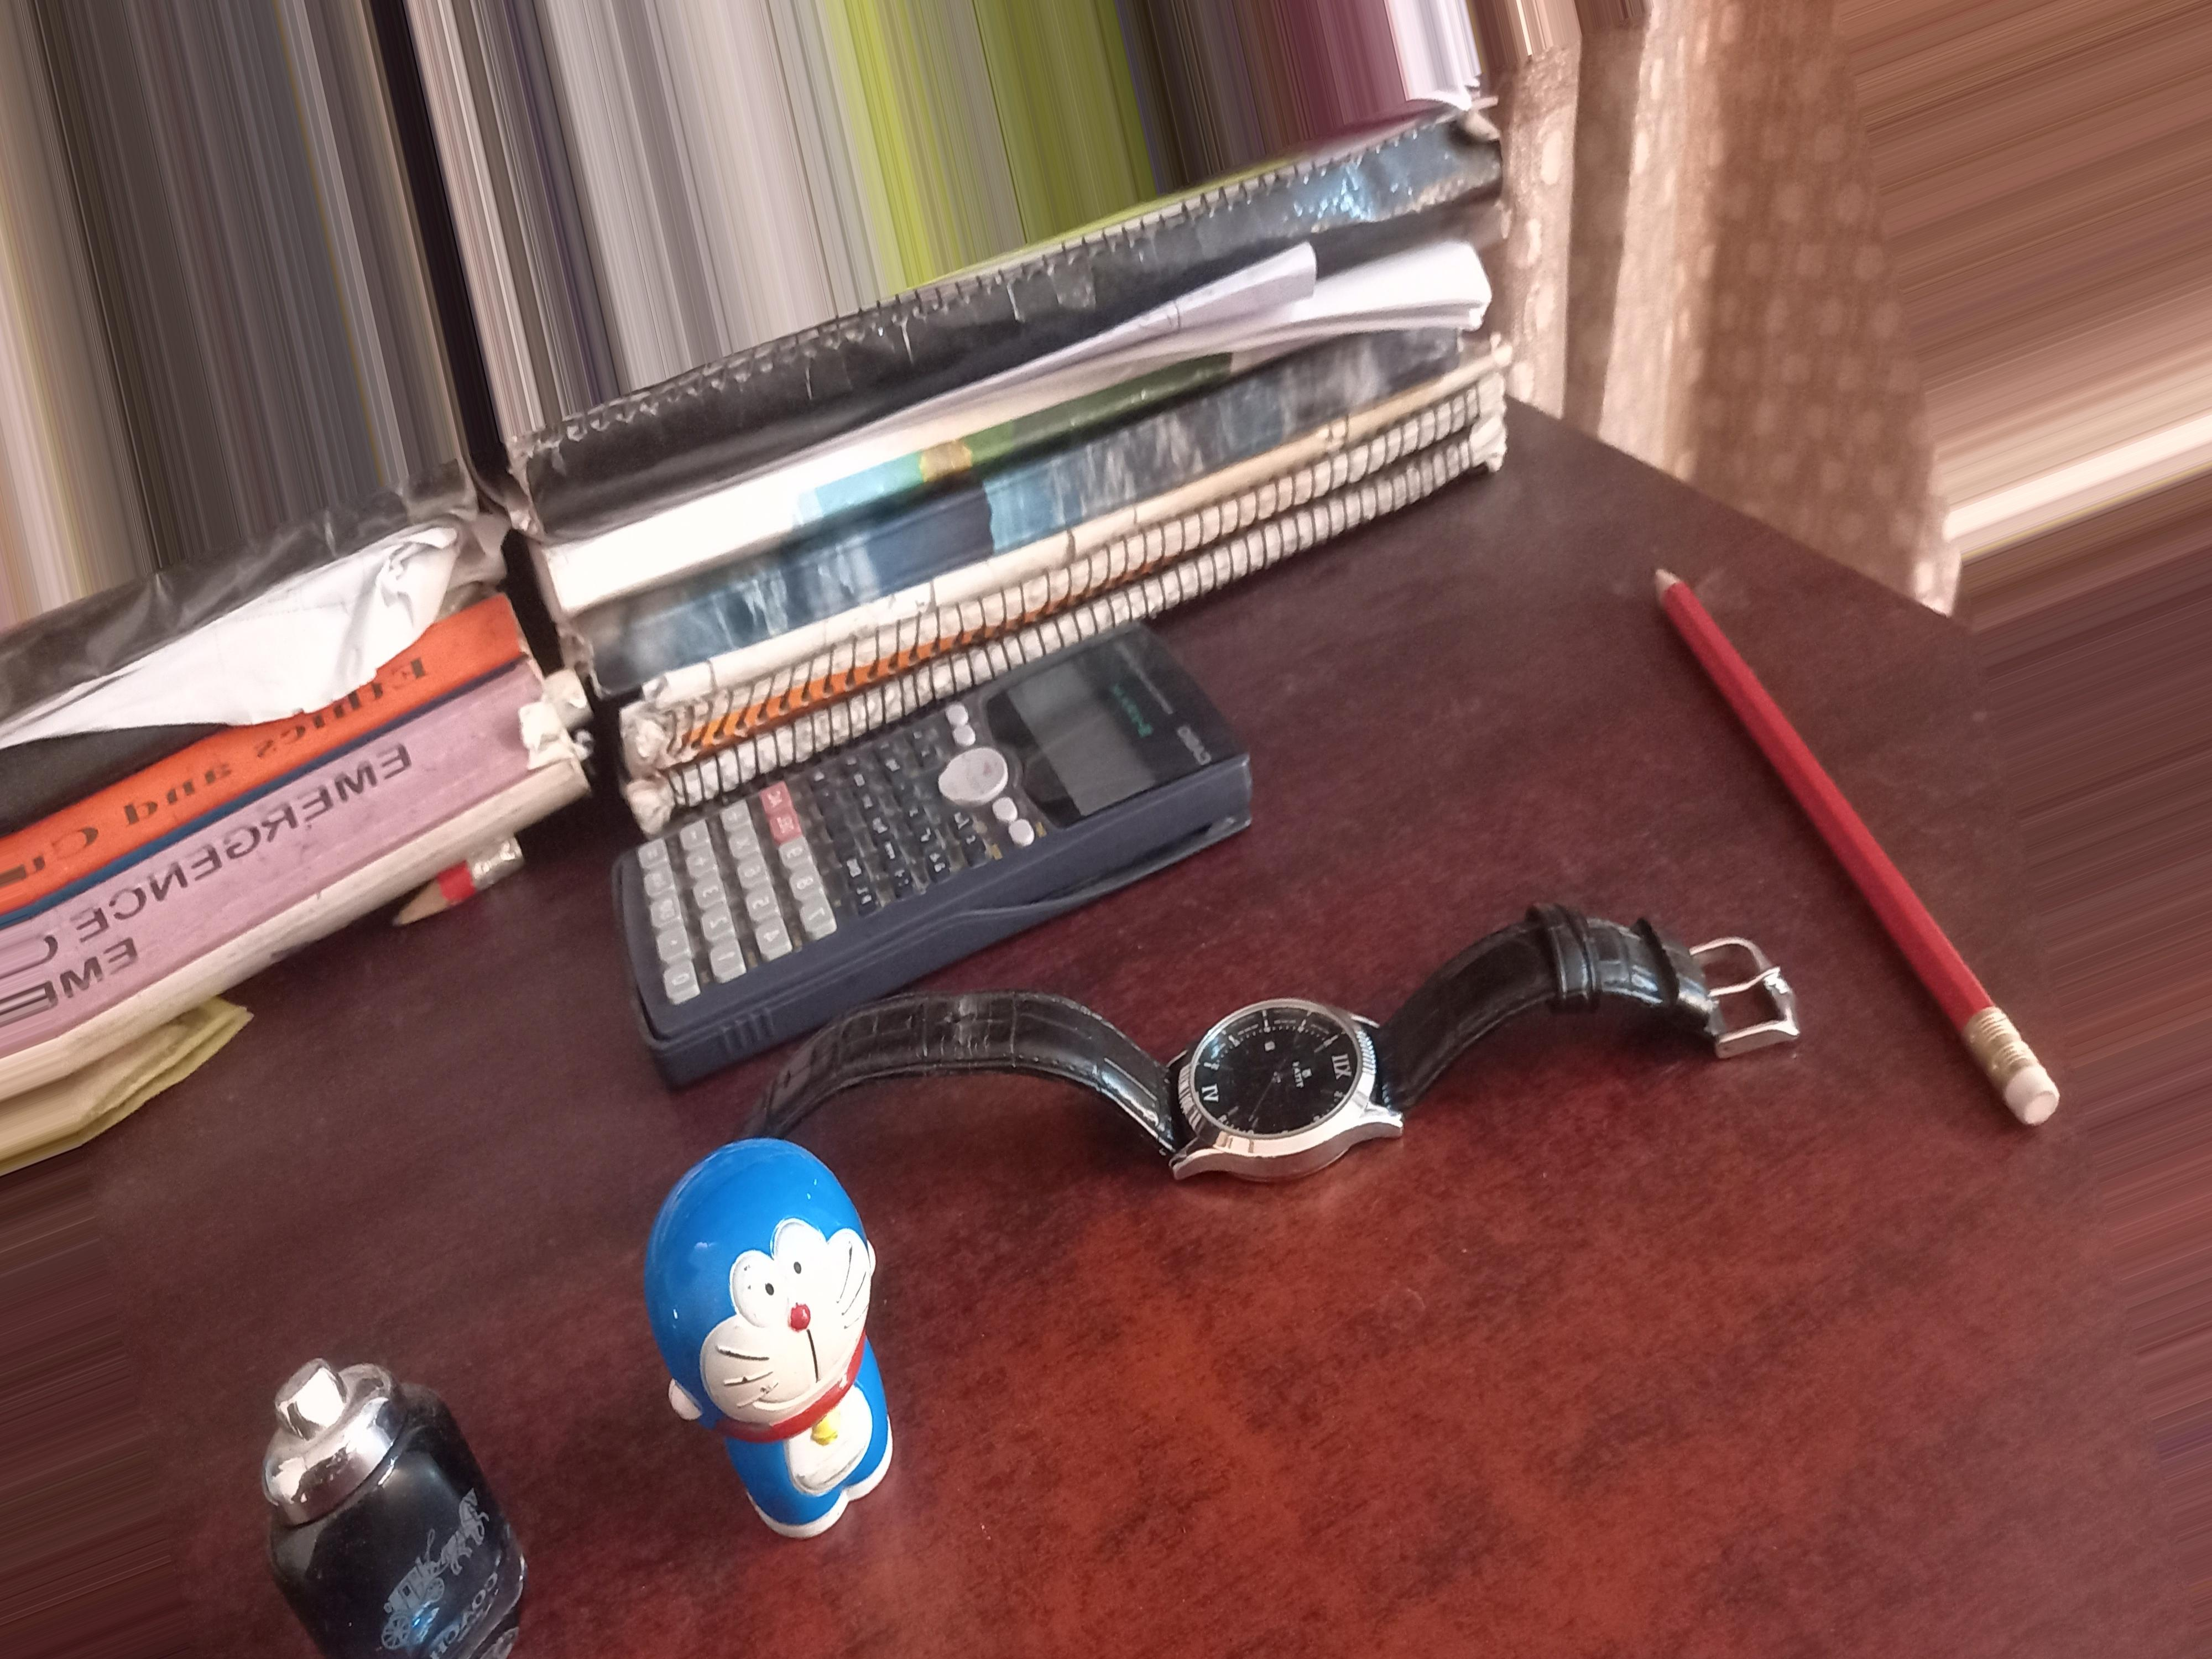calculator: (627, 845, 995, 983)
doraemon: (615, 1194, 928, 1509)
pencil: (1620, 575, 1959, 873)
perfume: (225, 1394, 531, 1631)
watch: (1141, 962, 1465, 1204)
